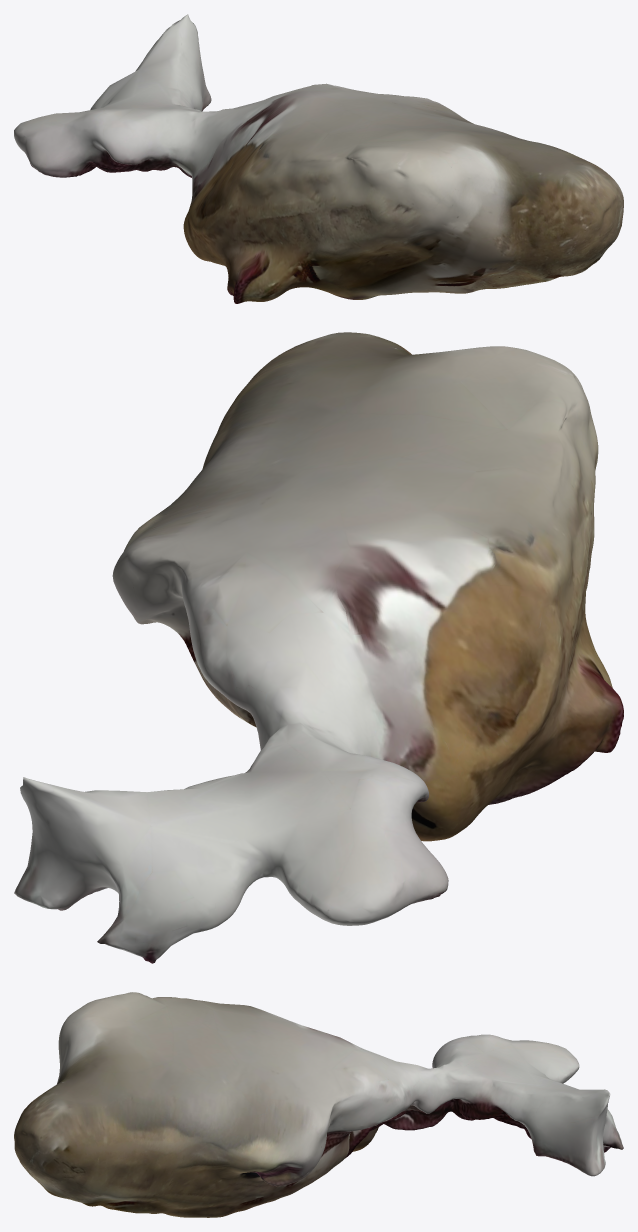
3 renders of one model, top to bottom at view 1: azimuth 30°, elevation 25°; view 2: azimuth 150°, elevation 25°; view 3: azimuth 270°, elevation 25°, orthographic. The views are drawn at different scales.
Size of the model in its own units: 0.4281 by 0.2267 by 0.6887.
1 material, 1 textured.
